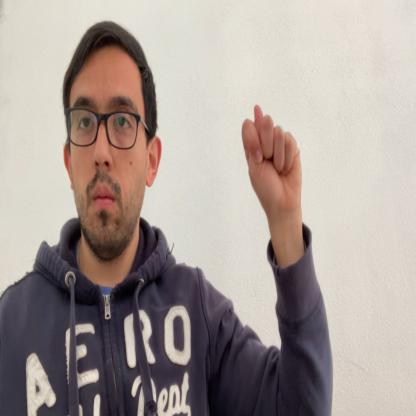T: (243, 102, 303, 216)
